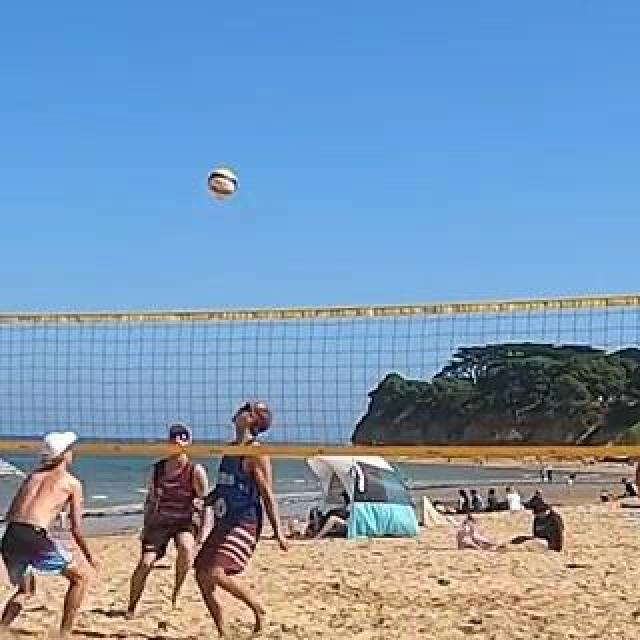volleyball: (209, 172, 239, 200)
